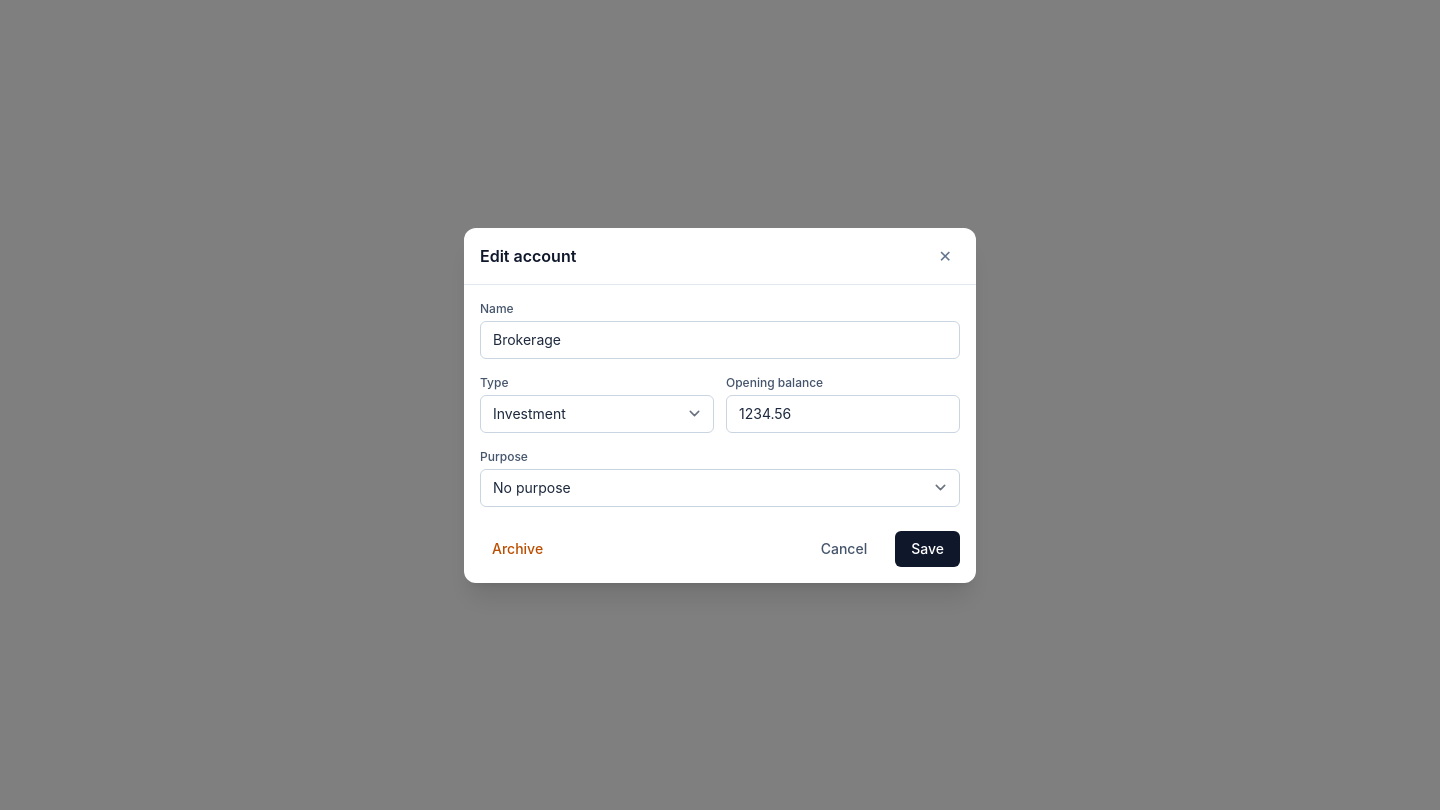
AccountModal › archives in place without closing the modal
Click the button "Archive" at x=518, y=548, box 480,530 -> 555,566
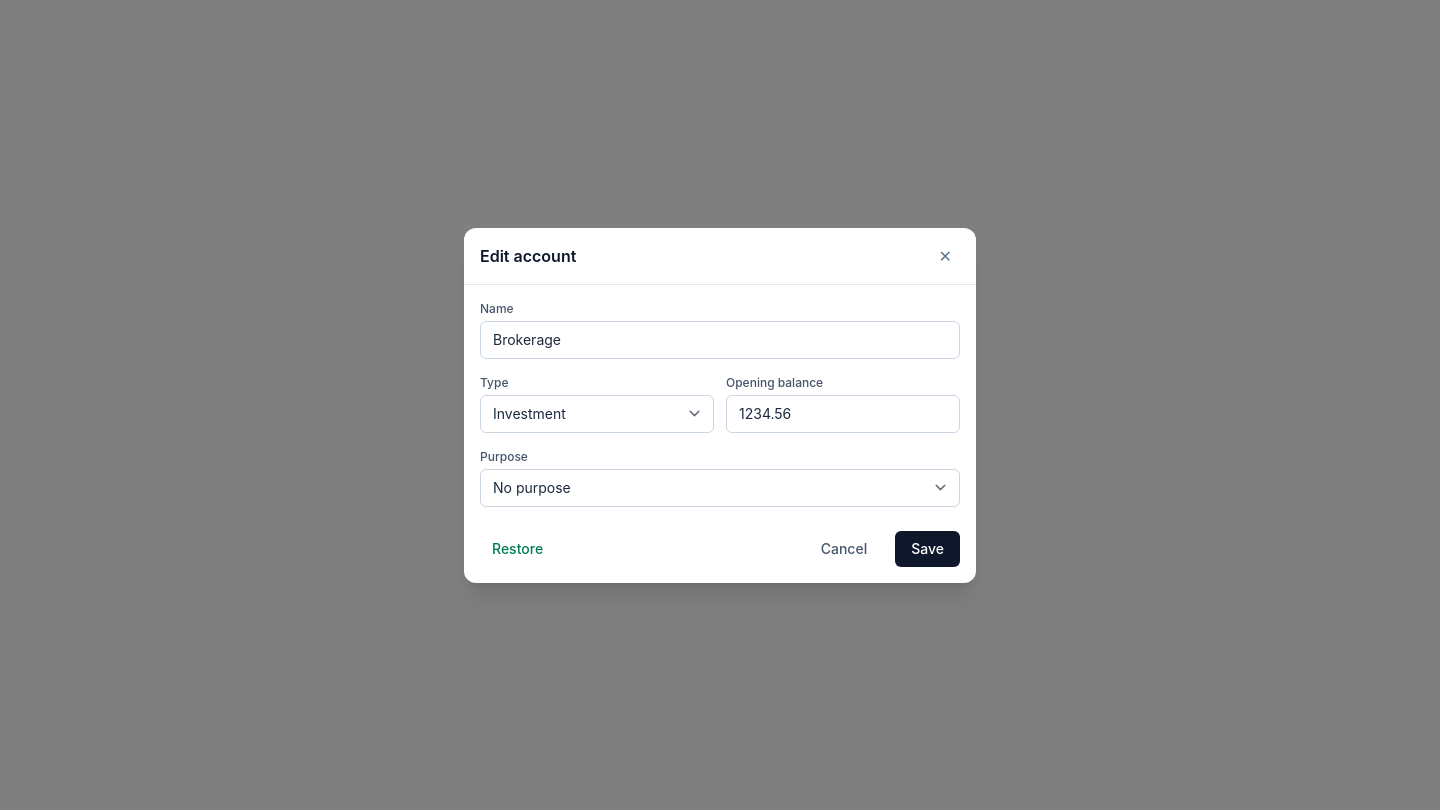
Expected: the button "Restore" is shown, 480,530 -> 555,566
